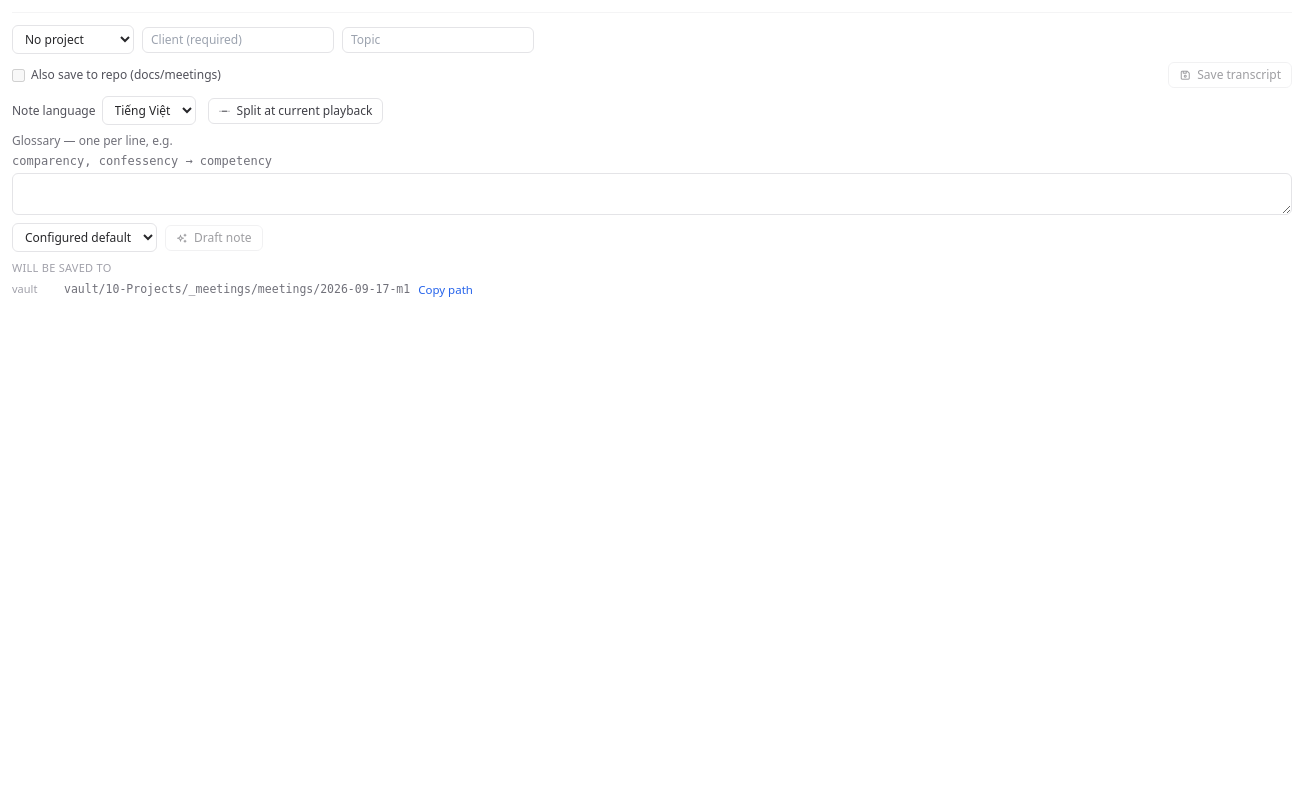
TASK-2736 — saving a reviewed note carries the structured note for the assistant › Save note sends note.decisions equal to the draft's note.decisions
The image size is (1304, 800).
Select "Mantu · ABCV2" in the dropdown named "Project or workspace" at coordinates (73, 40), box [12,25,134,54]
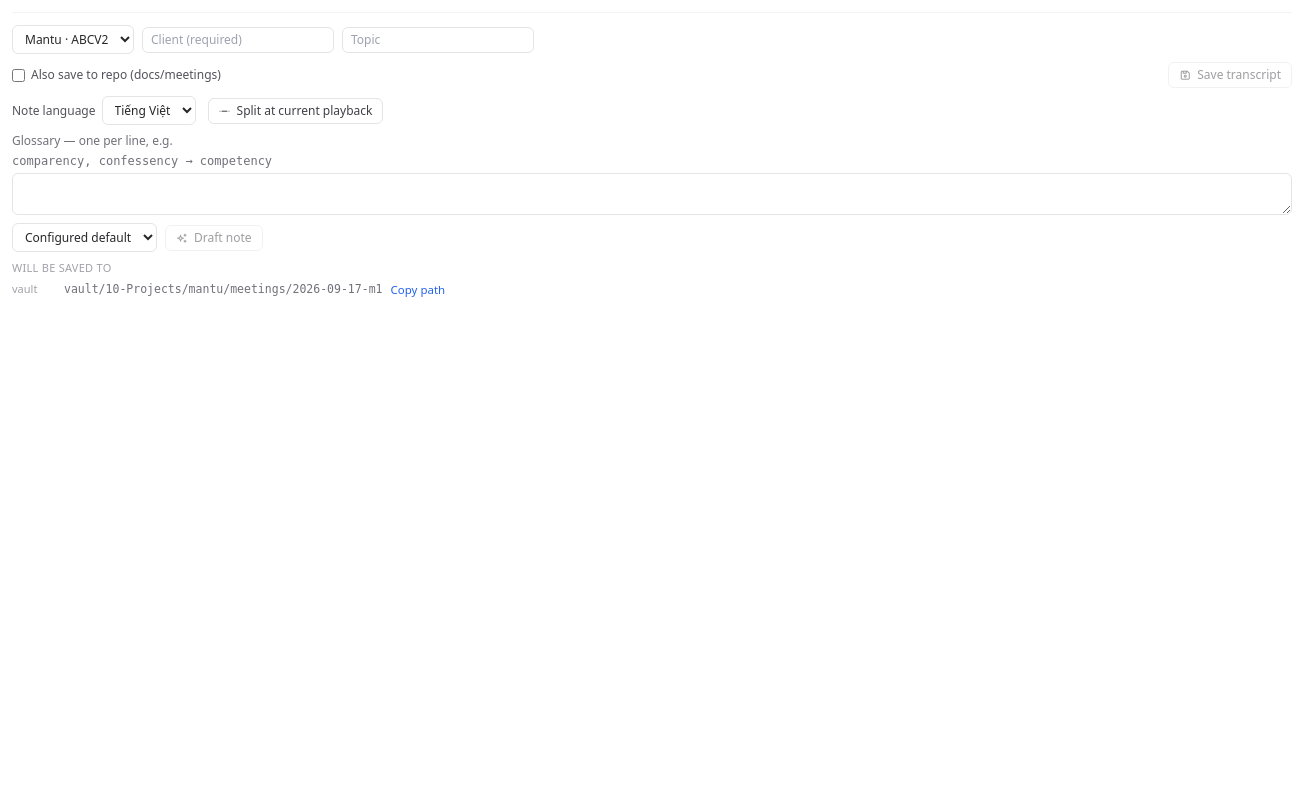
Type "Chị Kate" into the field labelled "Client" at coordinates (238, 40), box [142,26,334,52]
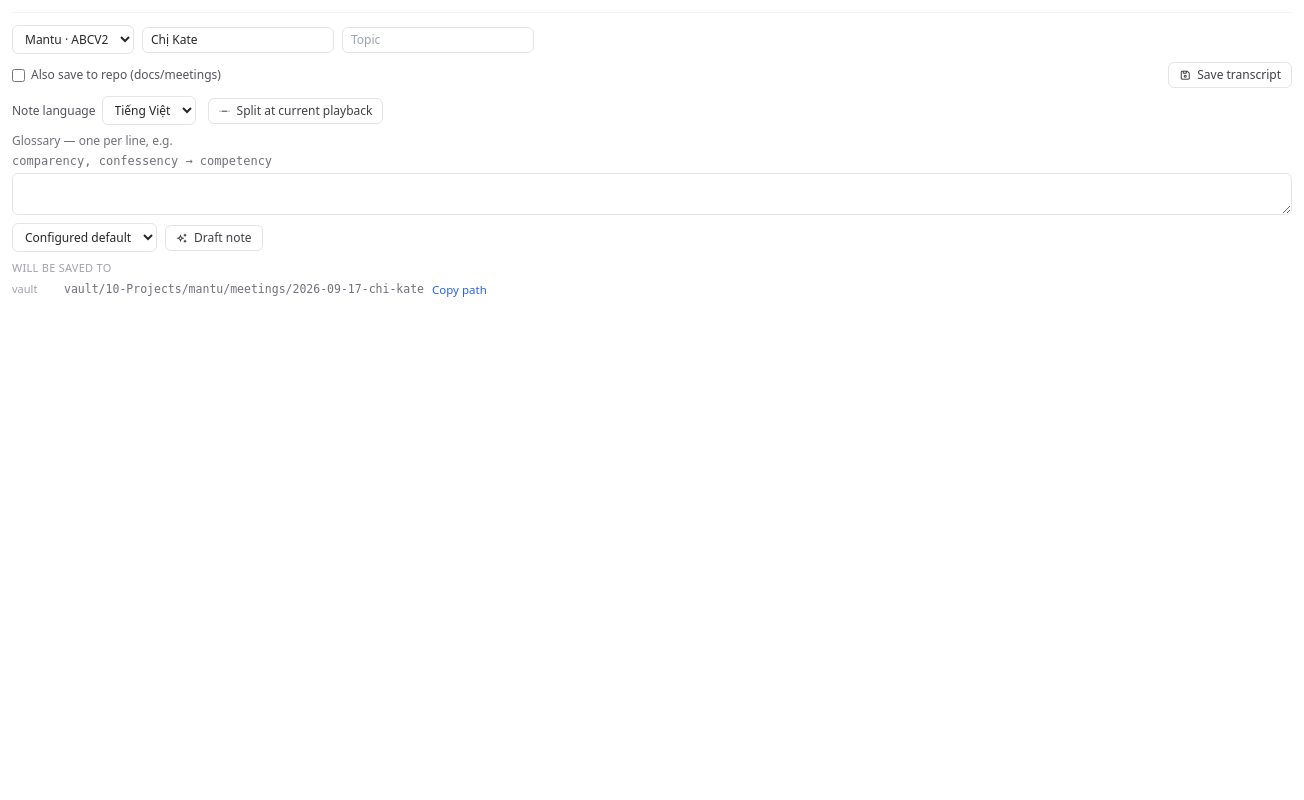
Click the button "Draft note" at coordinates (214, 238), box [165,224,263,250]
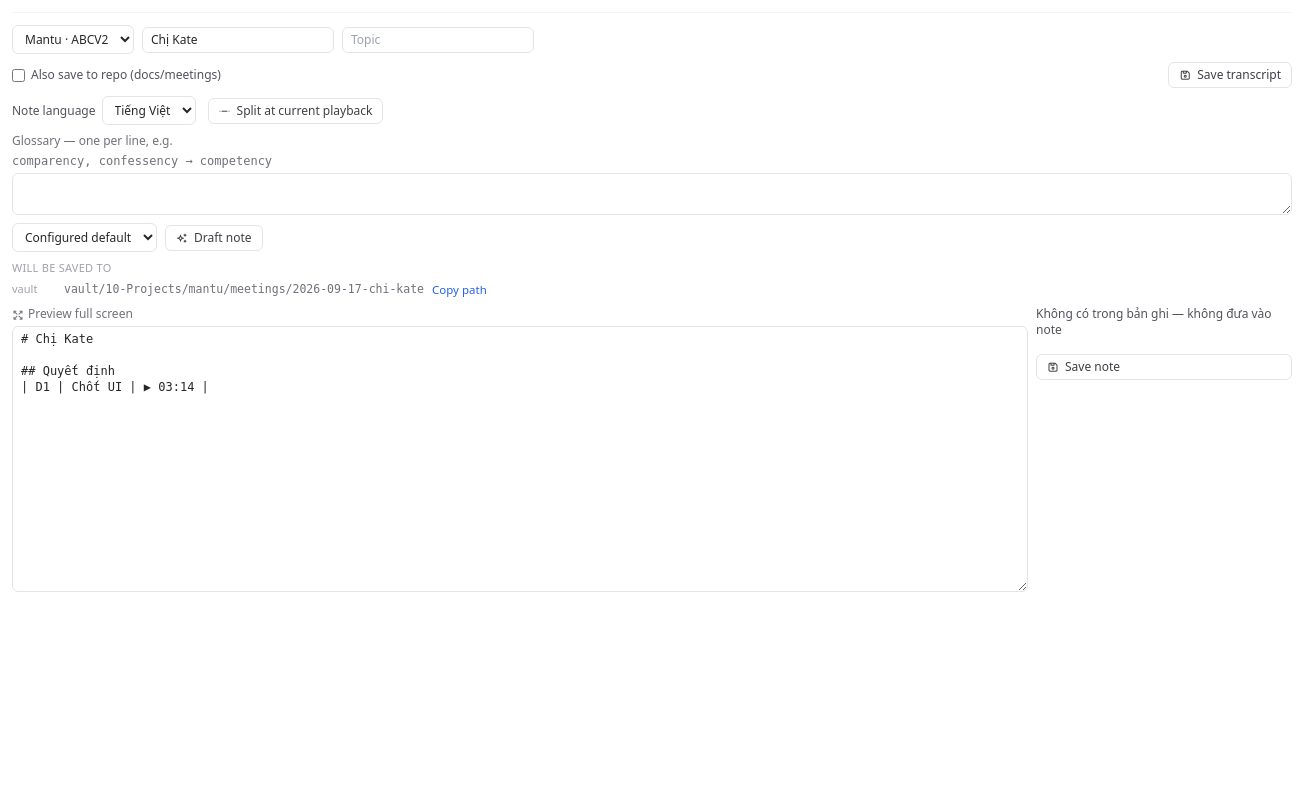
Expected: the text box named "Note draft" is shown, [12,326,1028,592]
Click the button "Save note" at coordinates (1164, 367), box [1036,354,1292,380]
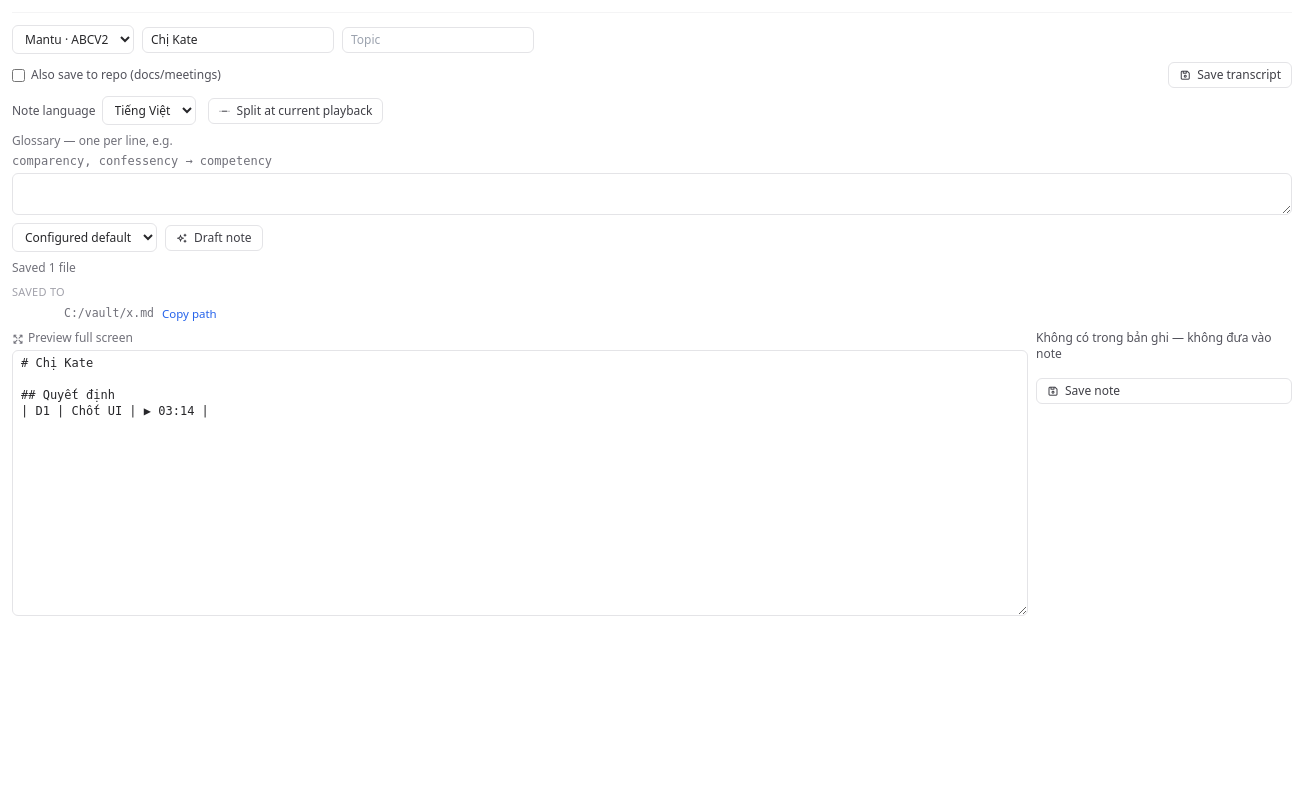
Expected: the text "Saved 1 file" is shown, [12,259,76,276]
